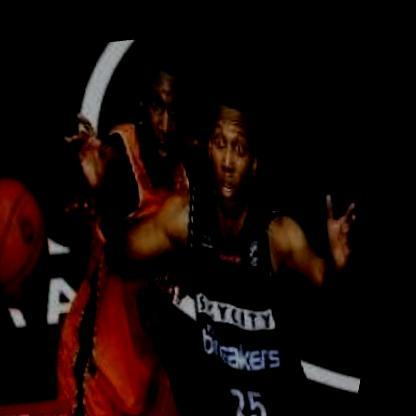basketball: (0, 154, 90, 321)
